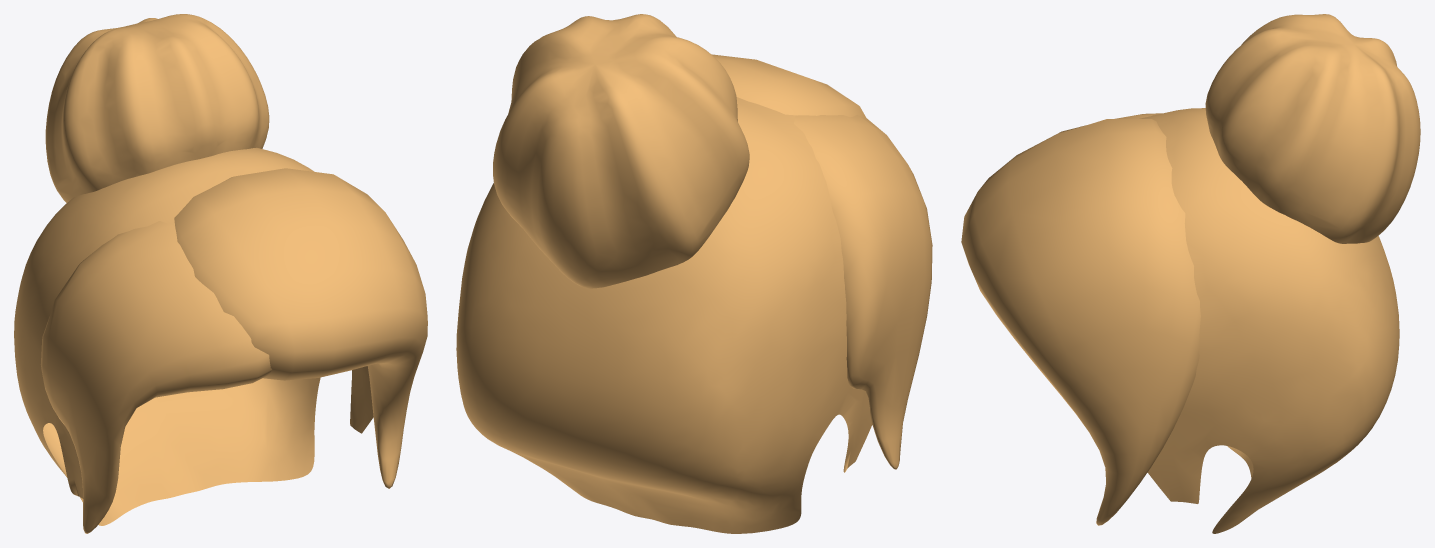
File: hair-005-d83921d9.glb
3 views of the same model, side by side, from view 1: azimuth 30°, elevation 25°; view 2: azimuth 150°, elevation 25°; view 3: azimuth 270°, elevation 25° (orthographic). The views are drawn at different scales.
Visible parts, largest first — view 1: Geo_Female_White_Hair.011; view 2: Geo_Female_White_Hair.011; view 3: Geo_Female_White_Hair.011.
Part boxes in pixels (x1,y1,x2,y2): Geo_Female_White_Hair.011: (14, 14, 427, 533); Geo_Female_White_Hair.011: (456, 14, 932, 533); Geo_Female_White_Hair.011: (961, 14, 1420, 533).
Size of the model in its own units: 1.66 by 2.12 by 1.92.
